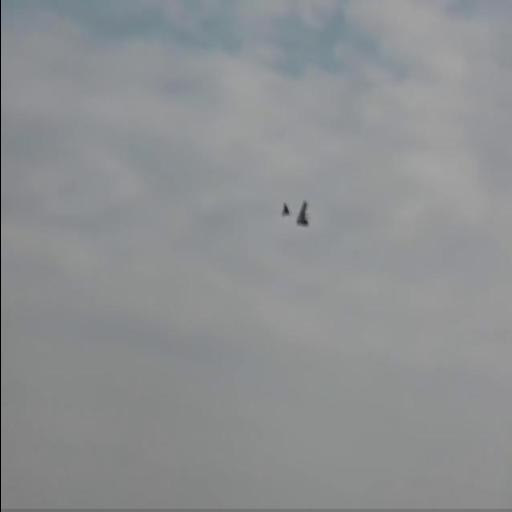uav: (280, 200, 310, 229)
